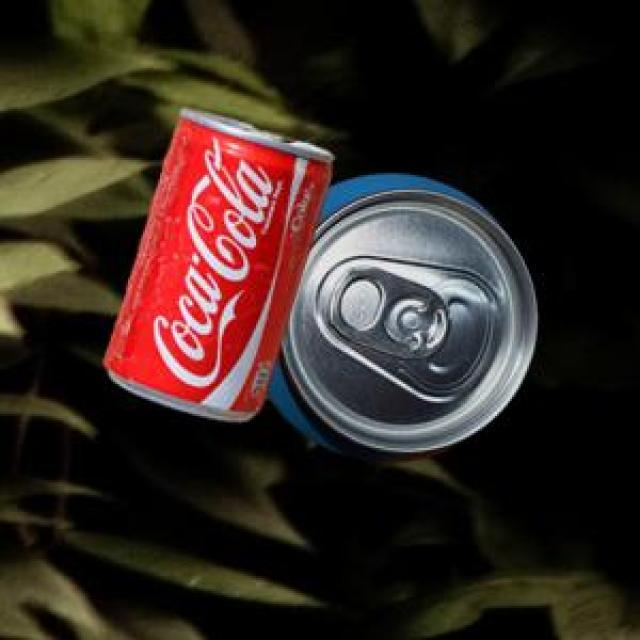Can: (263, 172, 532, 458), (101, 106, 330, 419)
